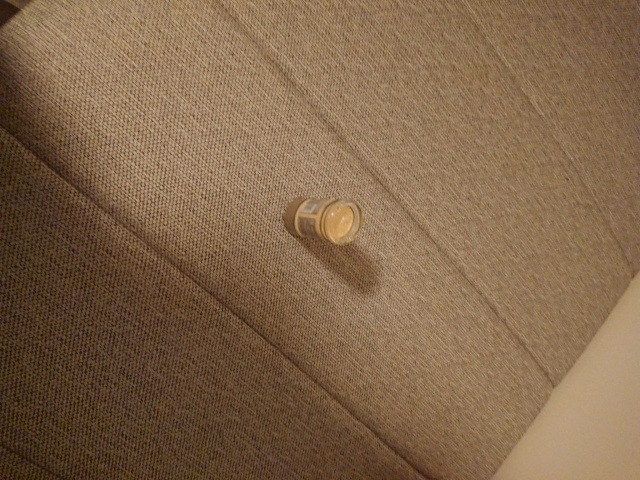Kotanyi Garlic Granules 70g: (281, 193, 366, 250)
